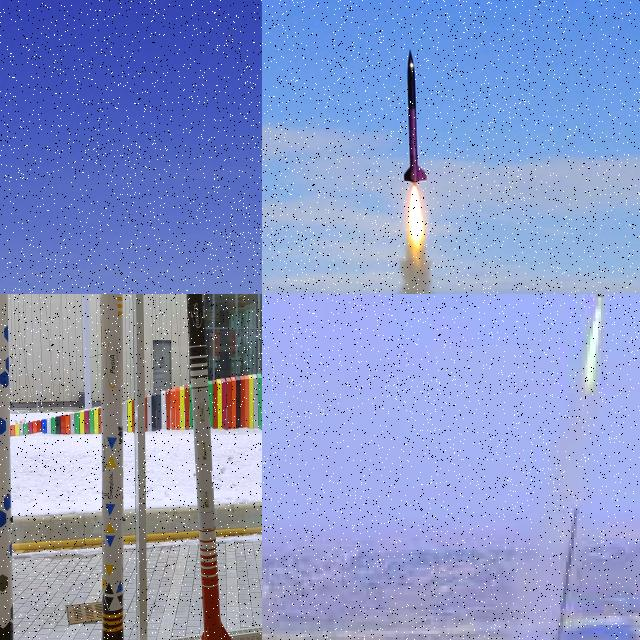Rocket: (186, 294, 232, 640), (101, 294, 124, 640), (403, 48, 427, 184)
